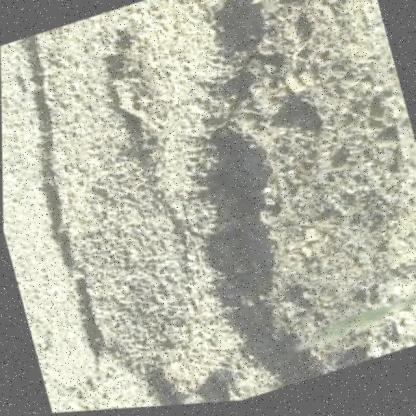pothole: (121, 0, 416, 409)
